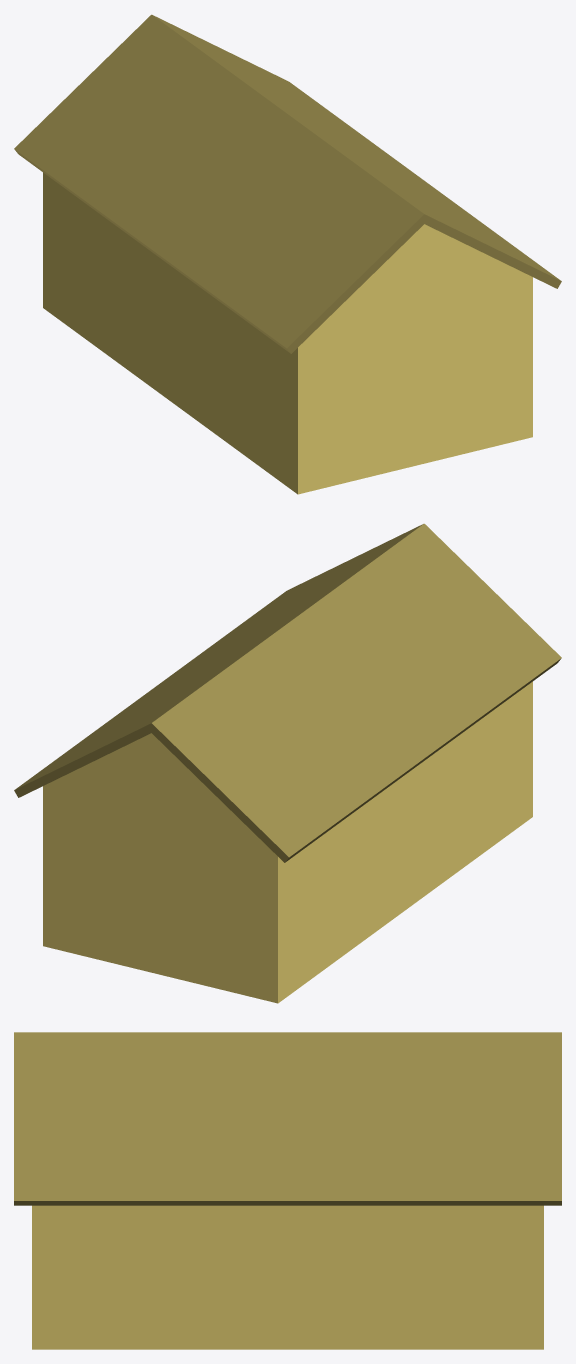
Rendered from result.glb.
3 views of the same model, one above another, from view 1: azimuth 30°, elevation 25°; view 2: azimuth 150°, elevation 25°; view 3: azimuth 270°, elevation 25° (orthographic).
Parts seen in each view (by area): view 1: 07feb910-e46d-4ea0-a2c1-bbb6a2af4ad4__undefined, 9de1f659-4845-41ab-bc70-f7c1a6688467__undefined (×2); view 2: 07feb910-e46d-4ea0-a2c1-bbb6a2af4ad4__undefined, 9de1f659-4845-41ab-bc70-f7c1a6688467__undefined (×2); view 3: 9de1f659-4845-41ab-bc70-f7c1a6688467__undefined, 07feb910-e46d-4ea0-a2c1-bbb6a2af4ad4__undefined.
Boxes of the visible parts, box(x1,y1,x2,y2) form: 07feb910-e46d-4ea0-a2c1-bbb6a2af4ad4__undefined: box(43, 172, 532, 494); 9de1f659-4845-41ab-bc70-f7c1a6688467__undefined (×2): box(14, 14, 561, 353); 07feb910-e46d-4ea0-a2c1-bbb6a2af4ad4__undefined: box(43, 681, 532, 1003); 9de1f659-4845-41ab-bc70-f7c1a6688467__undefined (×2): box(14, 523, 561, 862); 9de1f659-4845-41ab-bc70-f7c1a6688467__undefined: box(14, 1032, 561, 1205); 07feb910-e46d-4ea0-a2c1-bbb6a2af4ad4__undefined: box(32, 1205, 543, 1349).
Size of the model in its own units: 882 by 791 by 1514.
